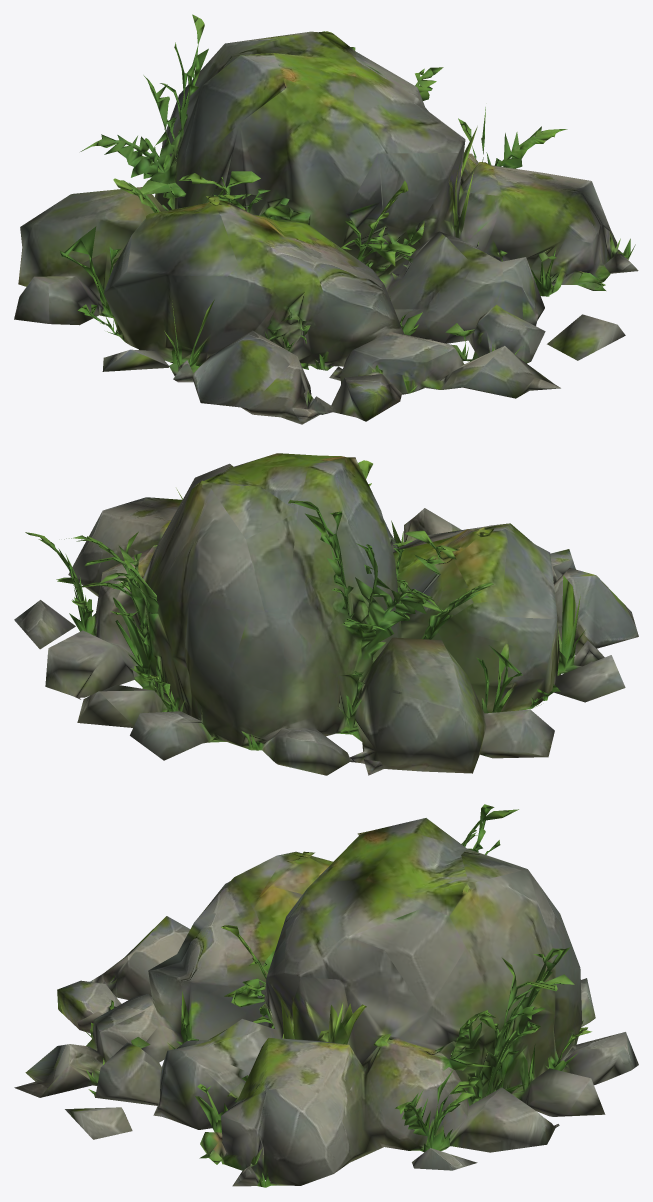
File: rock-two.glb
3 views of the same model, one above another, from view 1: azimuth 30°, elevation 25°; view 2: azimuth 150°, elevation 25°; view 3: azimuth 270°, elevation 25° (orthographic). The views are drawn at different scales.
Visible parts, largest first — view 1: tripo_node_7b1f8b43-212e-49da-a409-27f9d2ed5b58; view 2: tripo_node_7b1f8b43-212e-49da-a409-27f9d2ed5b58; view 3: tripo_node_7b1f8b43-212e-49da-a409-27f9d2ed5b58.
Part boxes in pixels (box(x1,y1,x2,y2)): tripo_node_7b1f8b43-212e-49da-a409-27f9d2ed5b58: box(14, 14, 638, 424); tripo_node_7b1f8b43-212e-49da-a409-27f9d2ed5b58: box(14, 453, 638, 775); tripo_node_7b1f8b43-212e-49da-a409-27f9d2ed5b58: box(14, 804, 638, 1187).
Bounding box in the file's own units: 0.9522 × 0.386 × 0.9599.
1 material, 1 textured.
